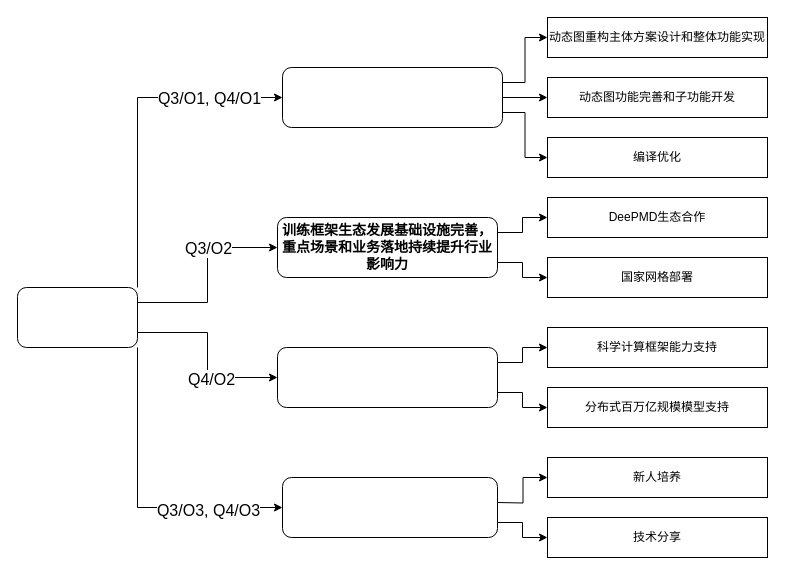
Some shapes in this 785 by 575 pixel diagram are drawn without their labels. The centre of each missing label's shape, as x and y in pixels:
"2021下半年工作" goes at point (77, 317).
"提升框架扩展能力，探索新一代框架架构" goes at point (387, 377).
"组织架构建设，个人能力提升" goes at point (390, 507).
"飞桨核心技术保持领先，有力支撑生态构建，有力支持公司业务" goes at point (392, 97).
